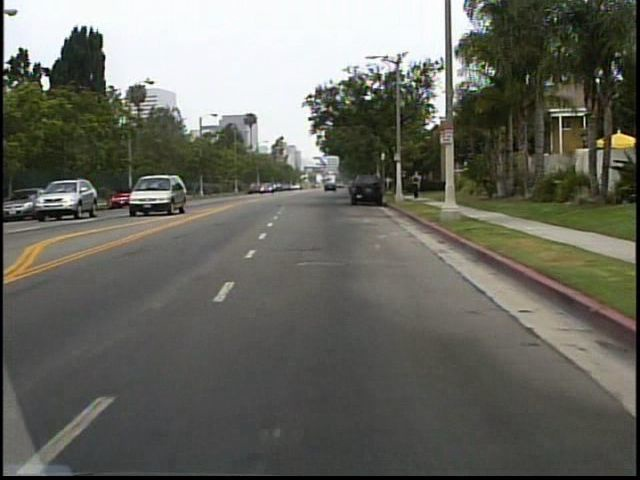person: (411, 169, 425, 202), (413, 172, 419, 202)
